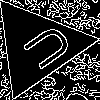U: (12, 21, 75, 78)
